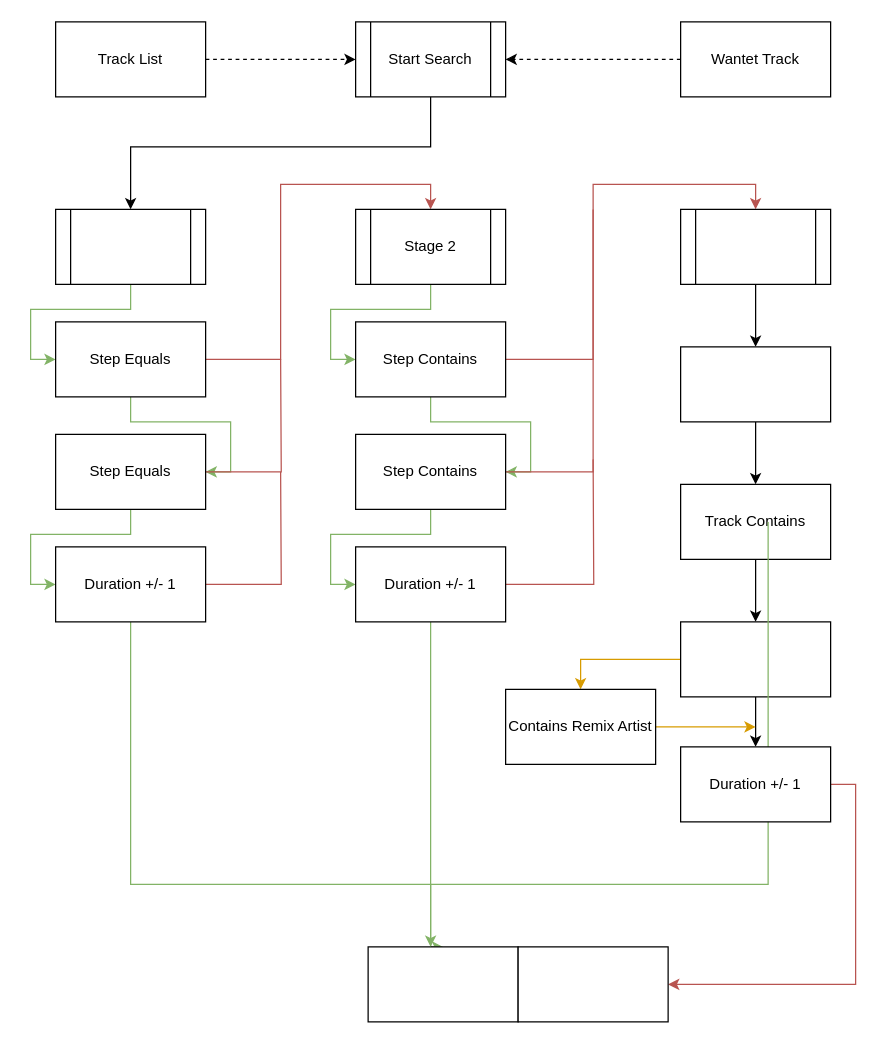
The diagram is 888 pixels wide and 1044 high, and some of its shapes have lost their labels. The shapes that lost their labels are listed below. From the top down, each one's box as (x1, y1, x2, y2) in pixels, then its label:
(54, 208, 206, 284): Stage 1
(679, 208, 831, 284): Stage 3
(679, 346, 831, 422): Duration +/- 10
(679, 621, 831, 697): Artist Contains / Artist in Track
(367, 946, 518, 1022): Return Track ID
(517, 946, 668, 1022): Return ID 0
